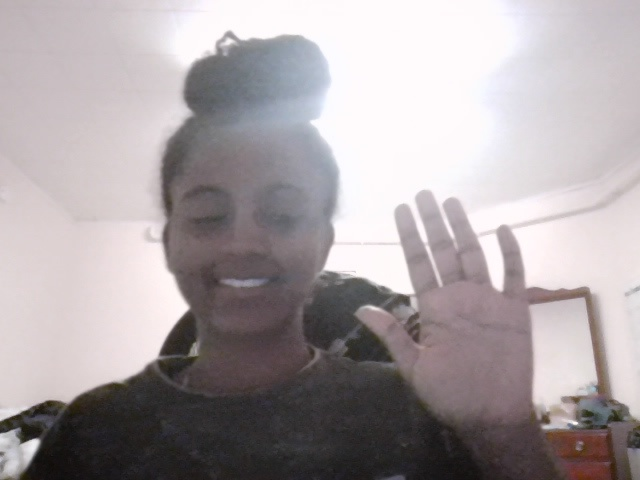hello: (354, 190, 562, 470)
